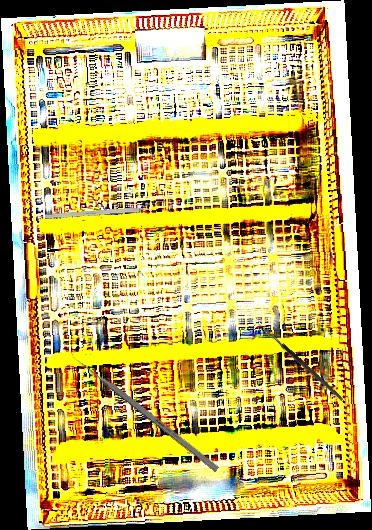Hook Surgical: (251, 320, 345, 406), (44, 205, 162, 220)
Pusher: (69, 352, 220, 473)
